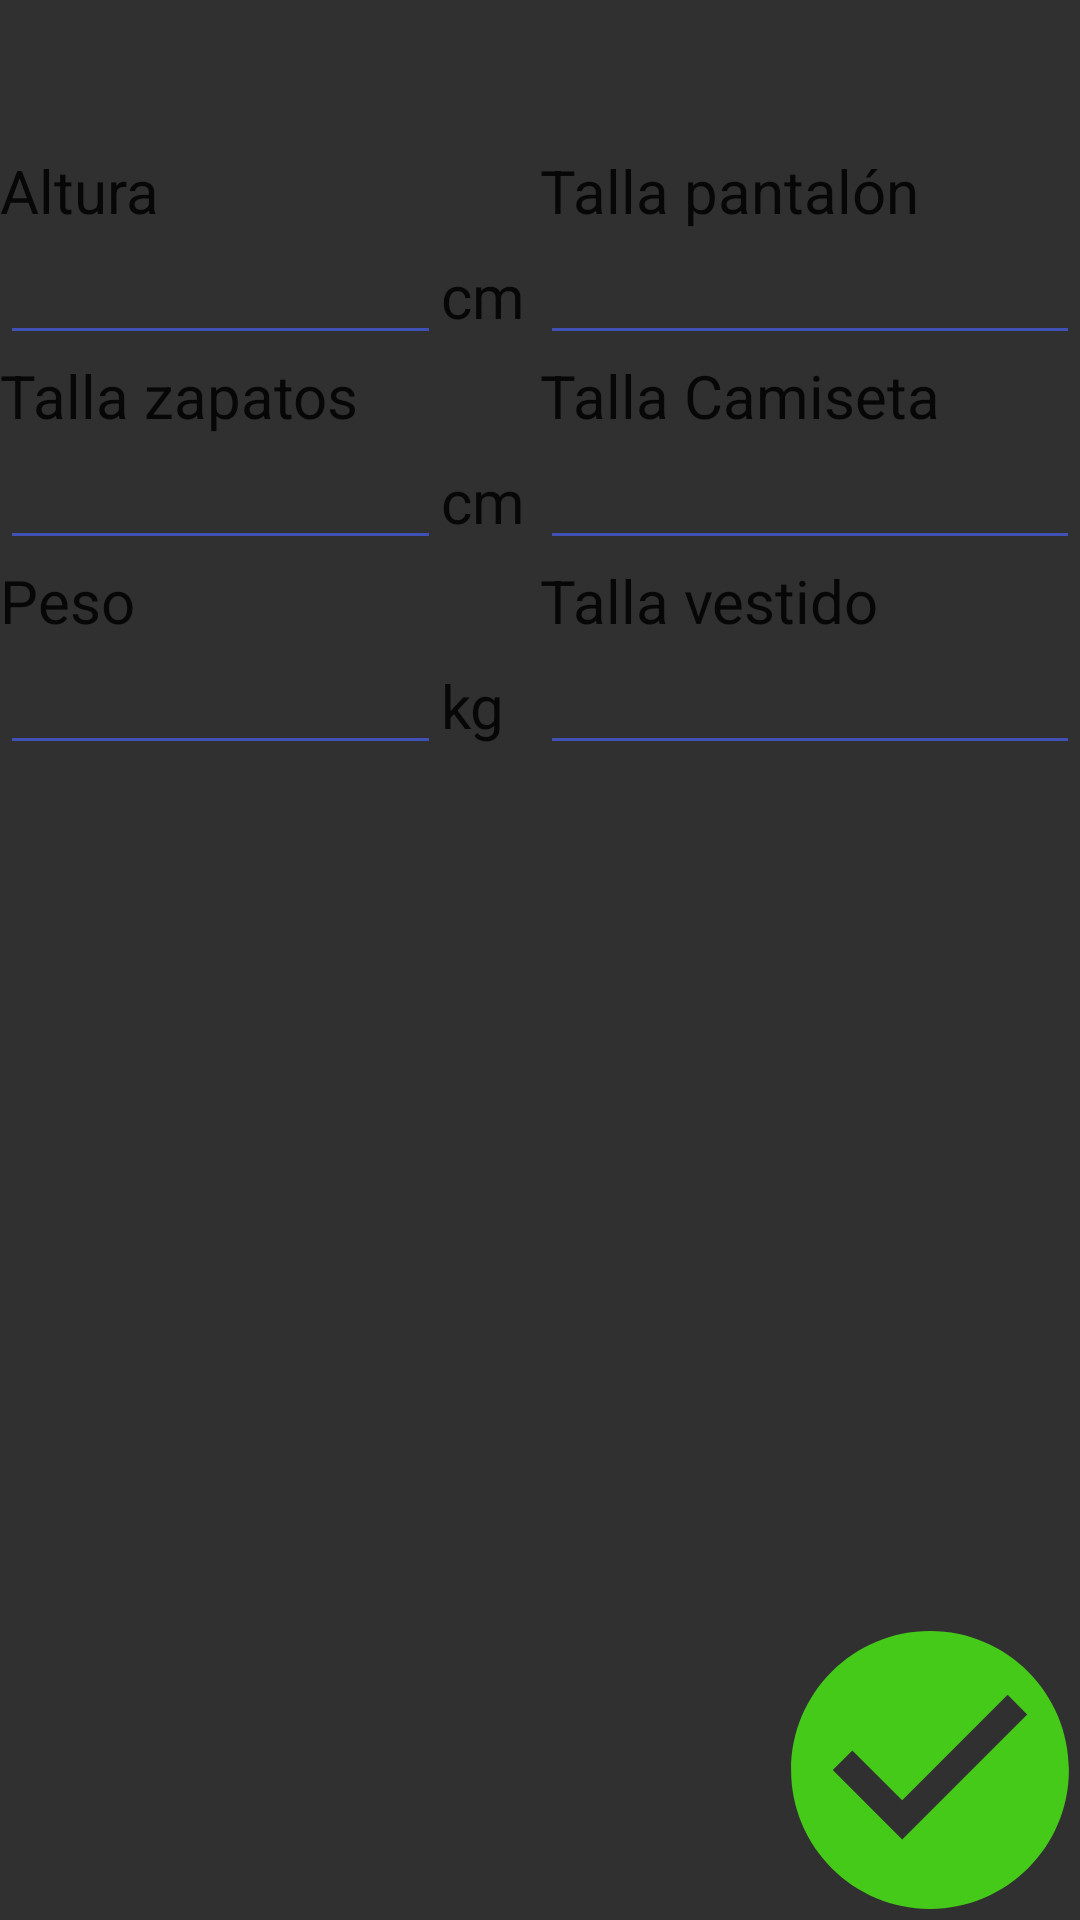

Icon bounding boxes for this 1080×1920 phone screenshot, format [left=x1, top=y1, right=x2, bottom=y2]:
save: [left=791, top=1631, right=1069, bottom=1909]
